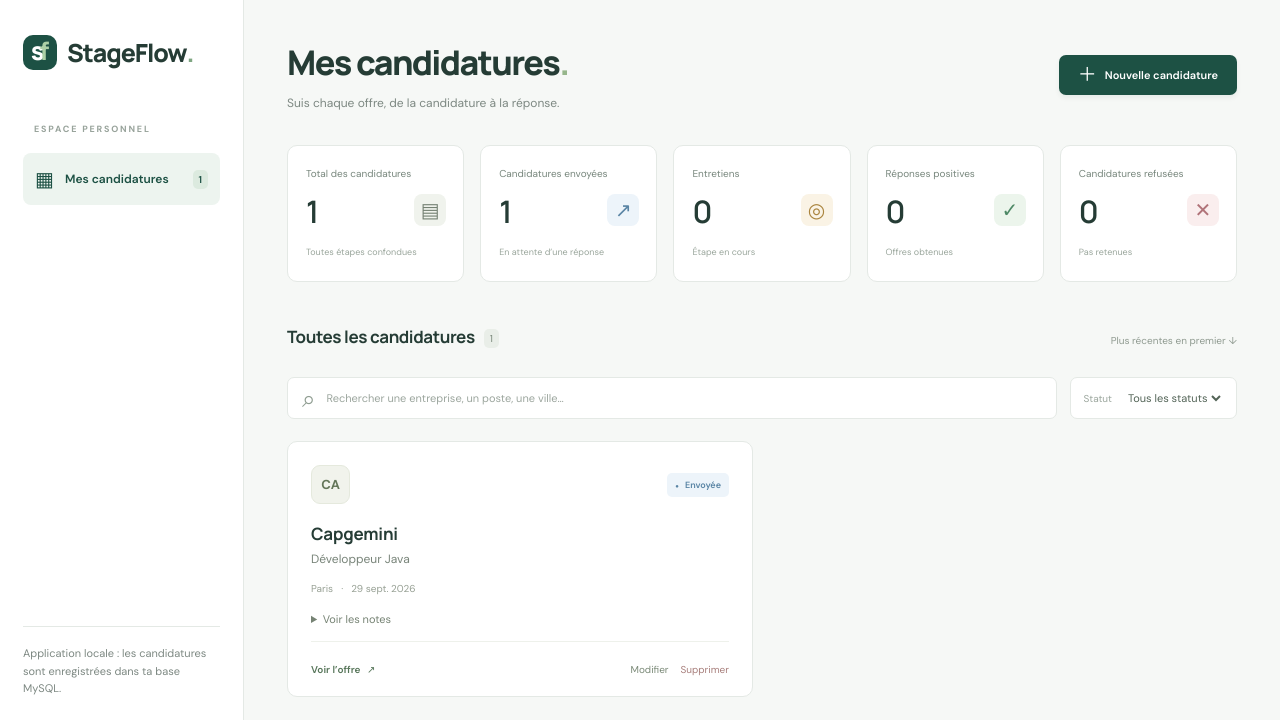
Scenario: garde le focus dans la fenêtre pendant une sauvegarde
This screenshot has width=1280, height=720.
(page scrolled)
Expected: the heading "Capgemini" is shown, [311, 522, 398, 545]
Click the button with aria-label "Modifier Capgemini".
click(650, 669)  # box [630, 658, 668, 680]
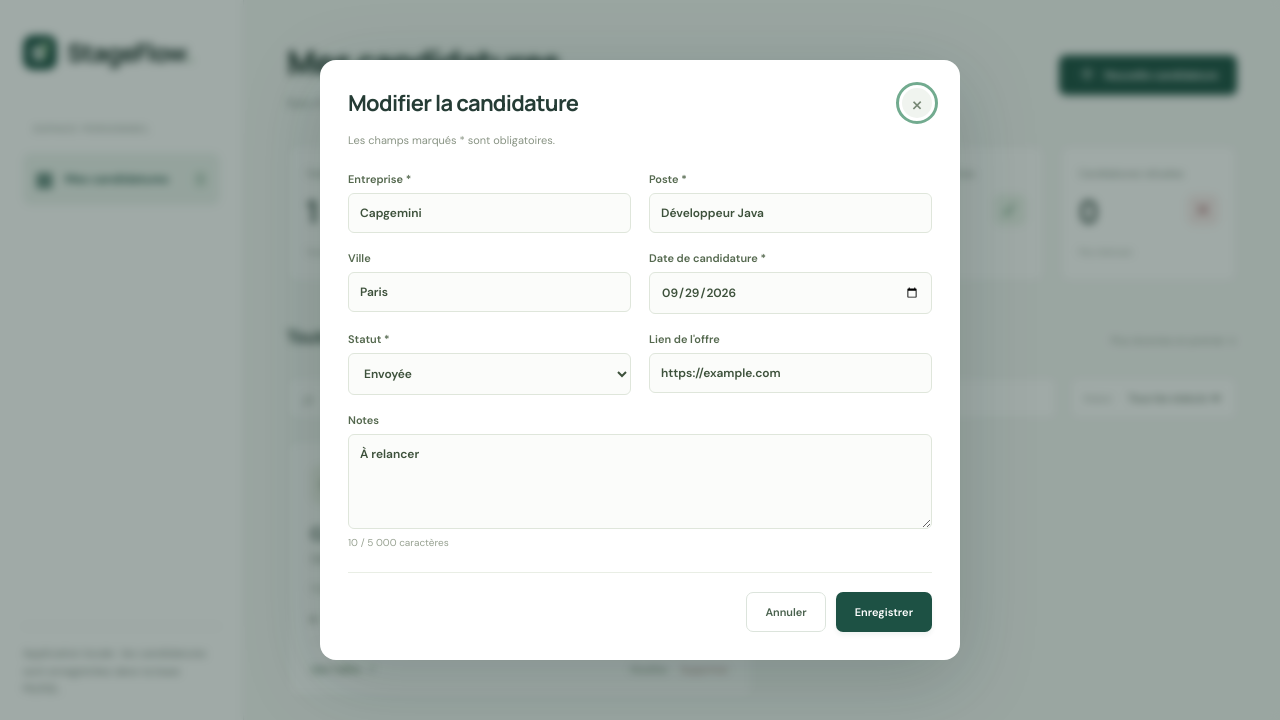
Click the button "Enregistrer".
click(884, 612)  # box [836, 592, 932, 632]
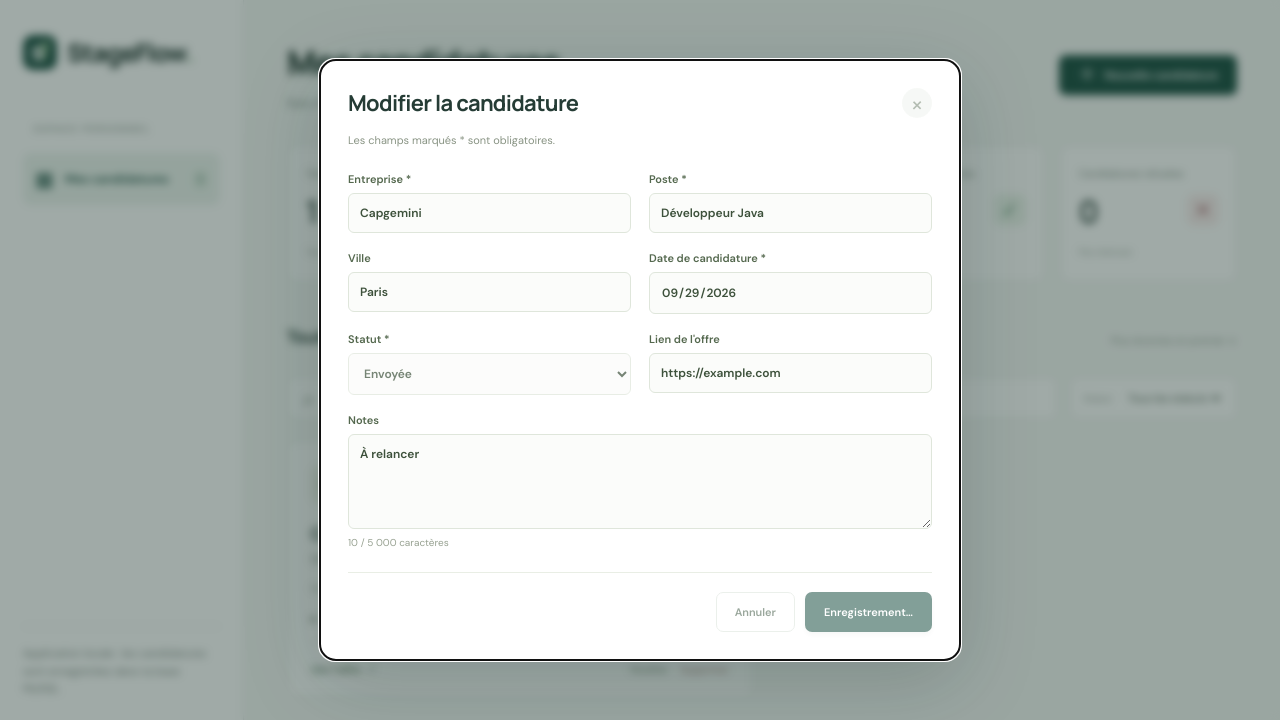
Press Tab
(page scrolled)
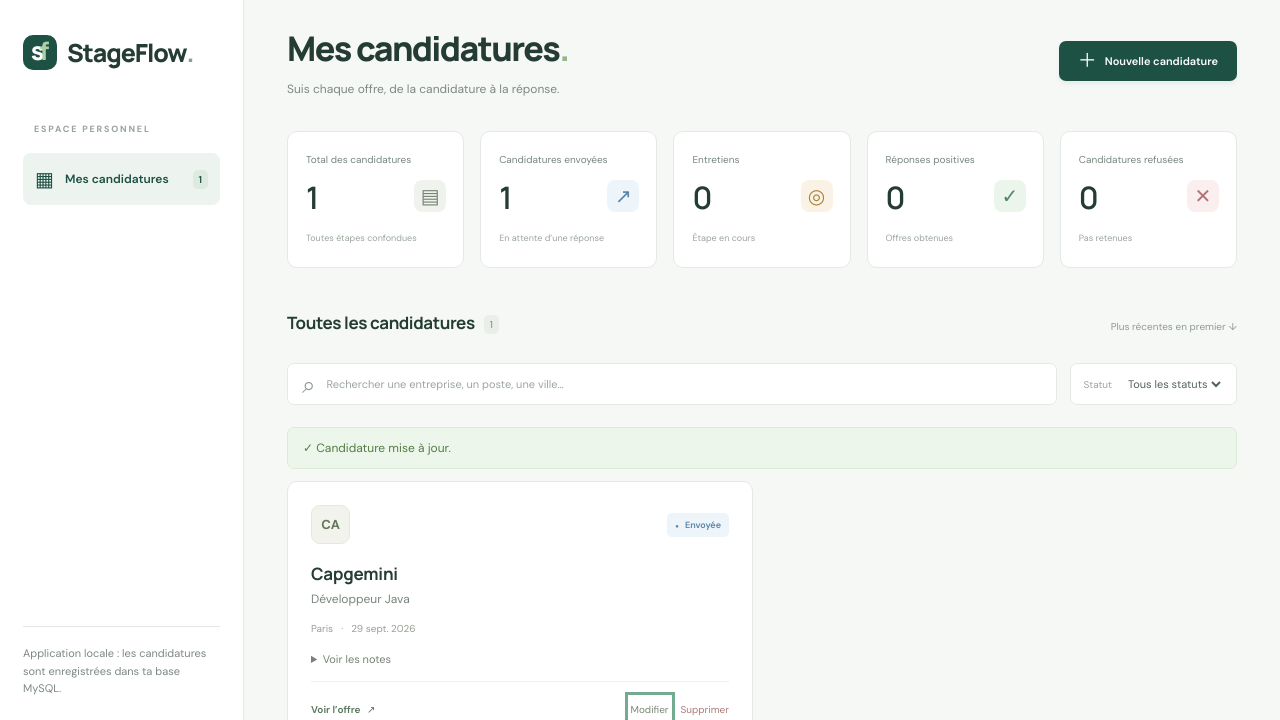
Result: the dialog is gone
